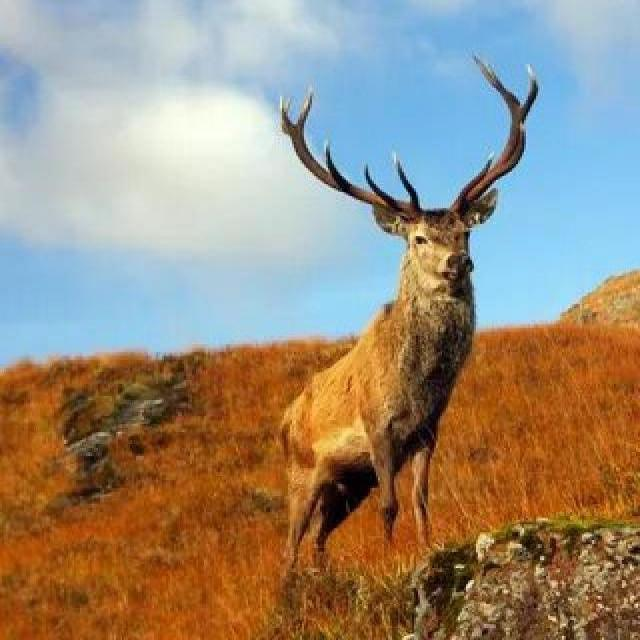deer: (170, 33, 566, 508)
